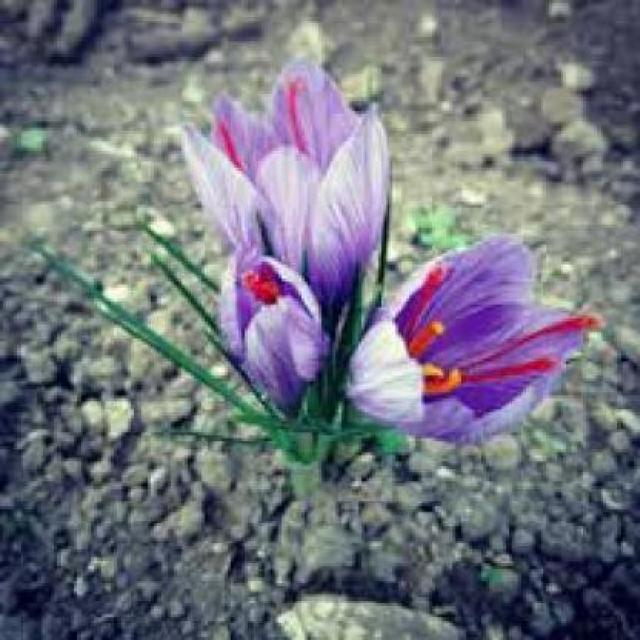Flower: (175, 66, 390, 340), (343, 234, 592, 446), (221, 248, 328, 428)
stigma: (479, 312, 606, 350), (400, 260, 450, 354), (438, 354, 584, 386), (278, 75, 318, 156), (208, 107, 246, 177)
